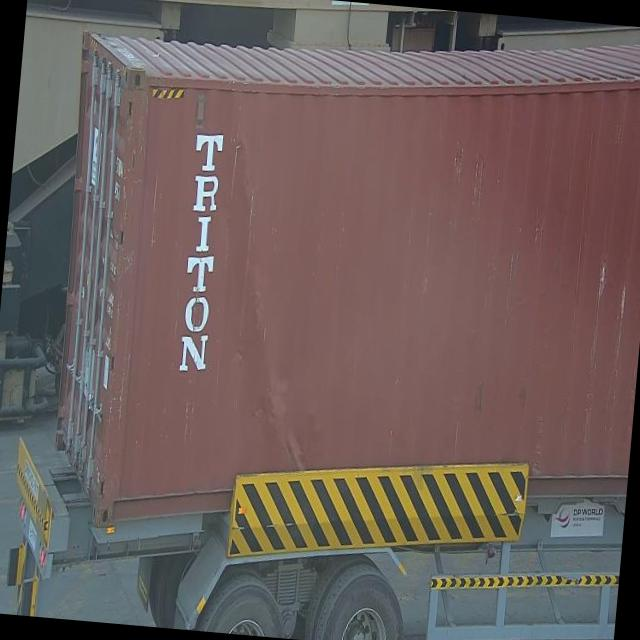Deframe_or_Dent: (203, 128, 337, 472)
